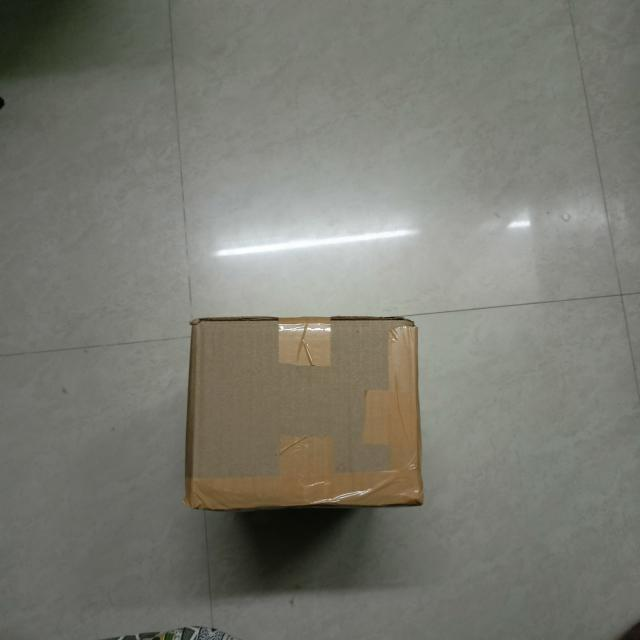box: (189, 320, 417, 507)
